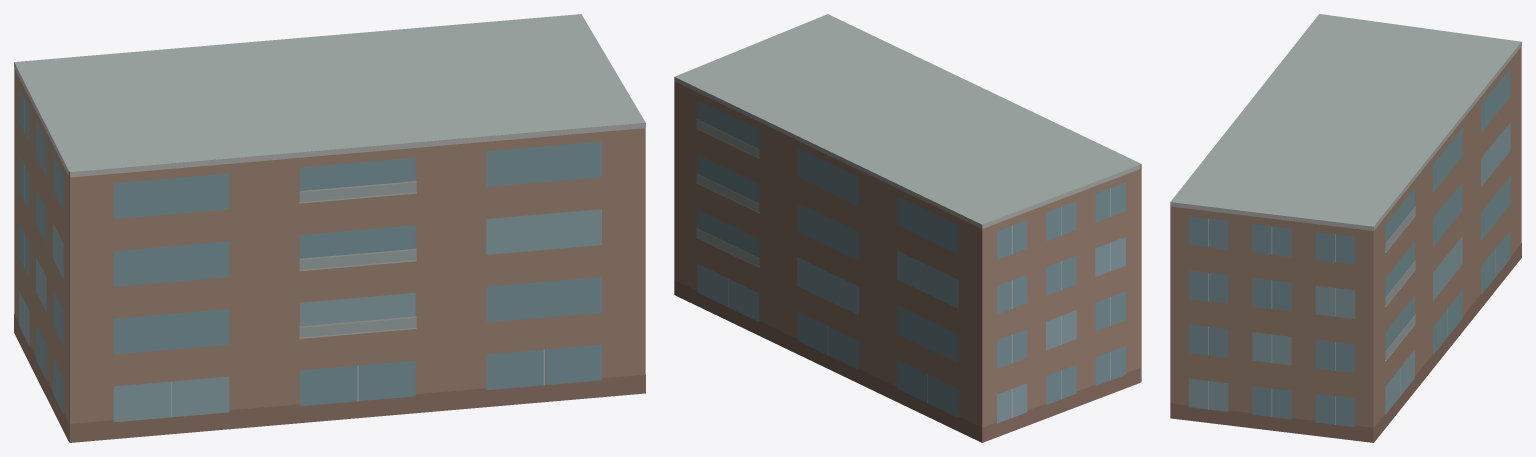
File: survey-upis-32856166.glb
3 views of the same model, side by side, from view 1: azimuth 30°, elevation 25°; view 2: azimuth 150°, elevation 25°; view 3: azimuth 270°, elevation 25° (orthographic). The views are drawn at different scales.
Visible parts, largest first — view 1: survey-upis-32856166.tmp; view 2: survey-upis-32856166.tmp; view 3: survey-upis-32856166.tmp.
Part boxes in pixels (x1=…): survey-upis-32856166.tmp: x1=14, y1=14, x2=645, y2=442; survey-upis-32856166.tmp: x1=674, y1=14, x2=1141, y2=442; survey-upis-32856166.tmp: x1=1170, y1=14, x2=1521, y2=442.
Bounding box in the file's own units: 25.75 × 12.2 × 17.99.
